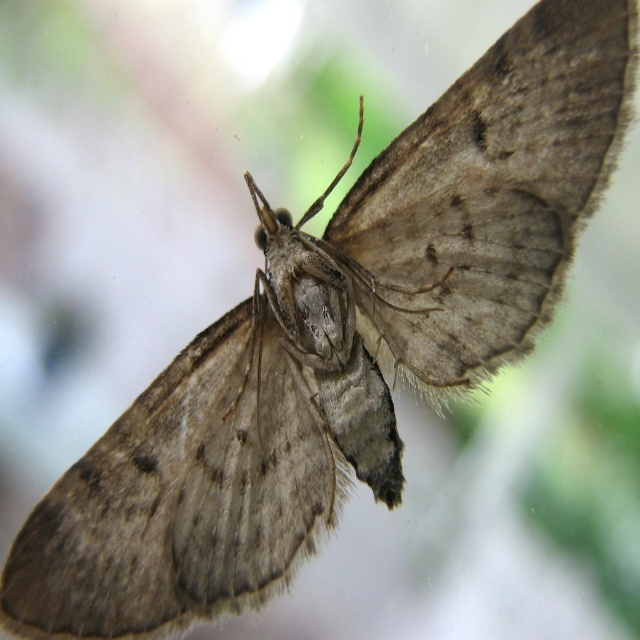Butterfly: (40, 7, 588, 640)
